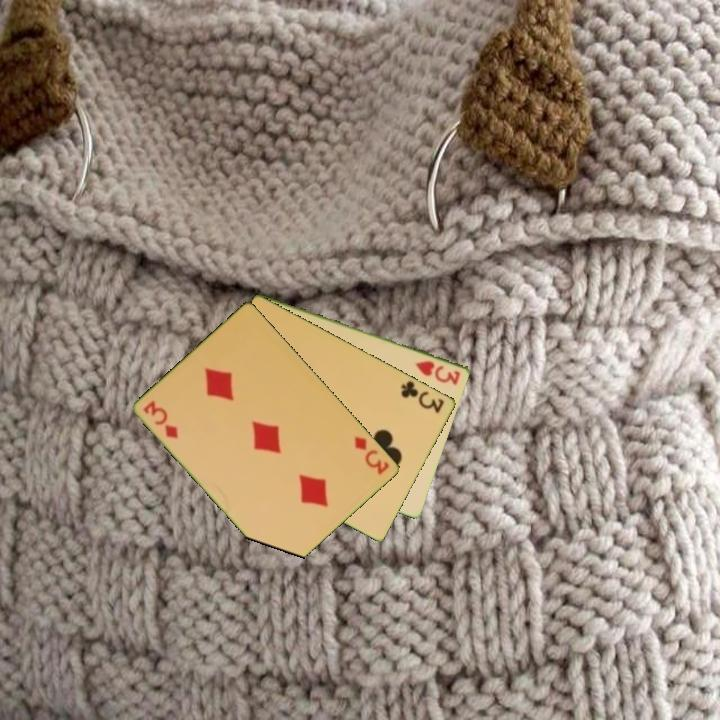3c: (397, 377, 447, 416)
3d: (351, 433, 393, 478), (140, 397, 181, 442)
3h: (412, 357, 464, 388)
